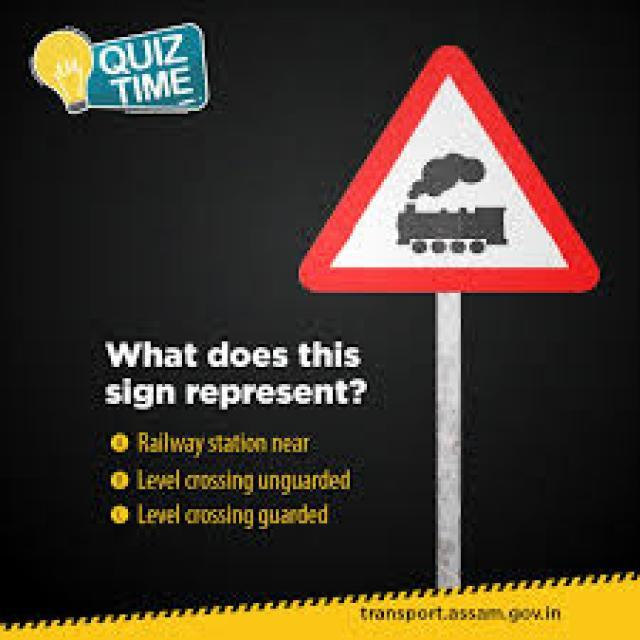unguarded level crossing: (297, 44, 600, 296)
